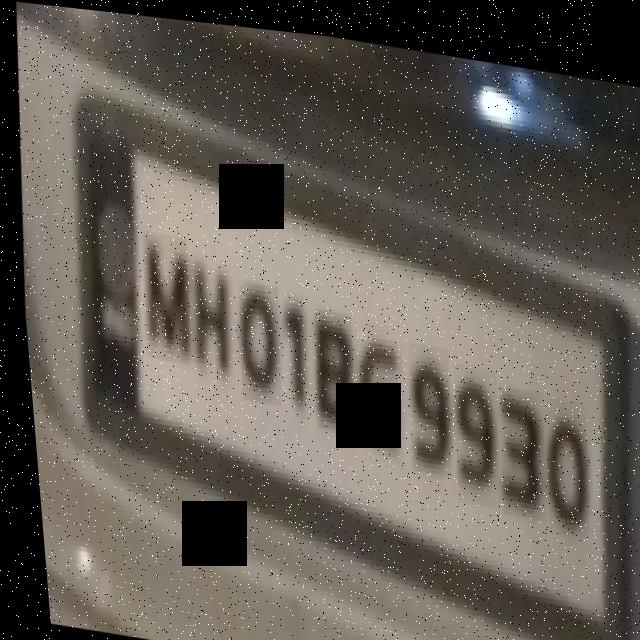0: (533, 386, 589, 528), (228, 275, 281, 401)
1: (272, 287, 313, 413)
3: (487, 374, 545, 510)
9: (441, 353, 499, 499), (396, 333, 452, 469)
B: (304, 302, 355, 427)
G: (346, 320, 402, 445)
H: (182, 245, 233, 372)
M: (132, 227, 192, 361)
